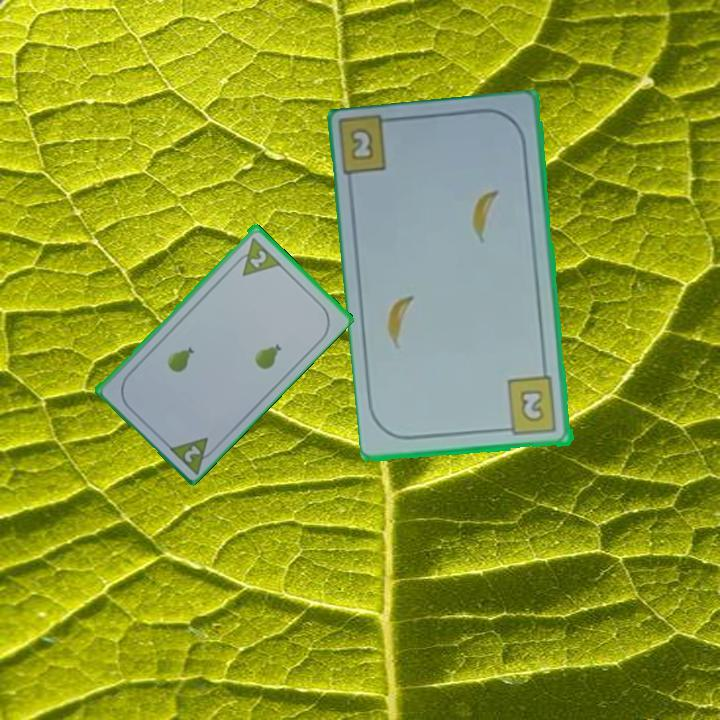2b: (499, 374, 560, 439), (346, 124, 377, 164)
2p: (246, 246, 270, 271), (180, 441, 204, 465)
